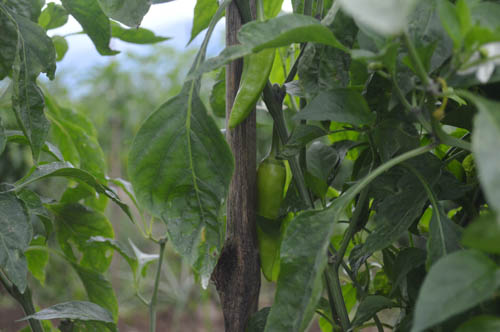ChiliPepper: (228, 42, 276, 131), (259, 162, 285, 285)
